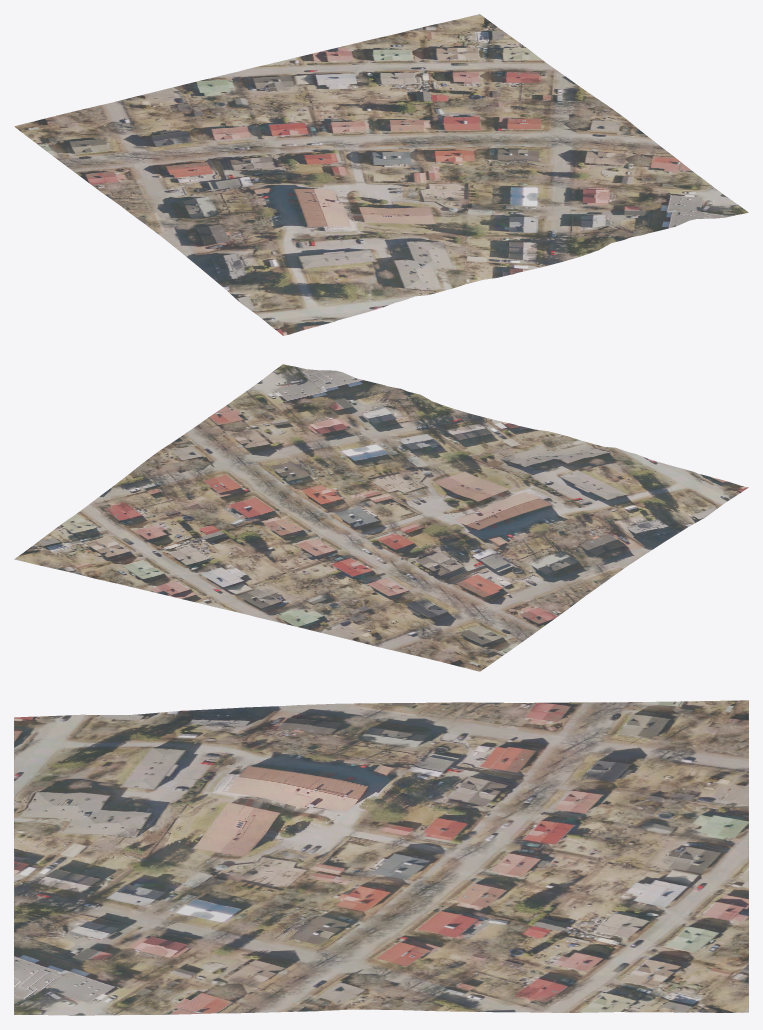
Rendered from CM_Terrain_24489230_6821841.fbx.
3 renders of one model, top to bottom at view 1: azimuth 30°, elevation 25°; view 2: azimuth 150°, elevation 25°; view 3: azimuth 270°, elevation 25°, orthographic. The views are drawn at different scales.
Visible parts, largest first — view 1: CM_Terrain_24489230_6821841_LOD0; view 2: CM_Terrain_24489230_6821841_LOD0; view 3: CM_Terrain_24489230_6821841_LOD0.
Part boxes in pixels (box(x1,y1,x2,y2)): CM_Terrain_24489230_6821841_LOD0: box(14, 14, 748, 335); CM_Terrain_24489230_6821841_LOD0: box(14, 364, 748, 671); CM_Terrain_24489230_6821841_LOD0: box(14, 700, 748, 1015).
Size of what is drawn, in the model's own units: 205 by 8.42 by 205.
